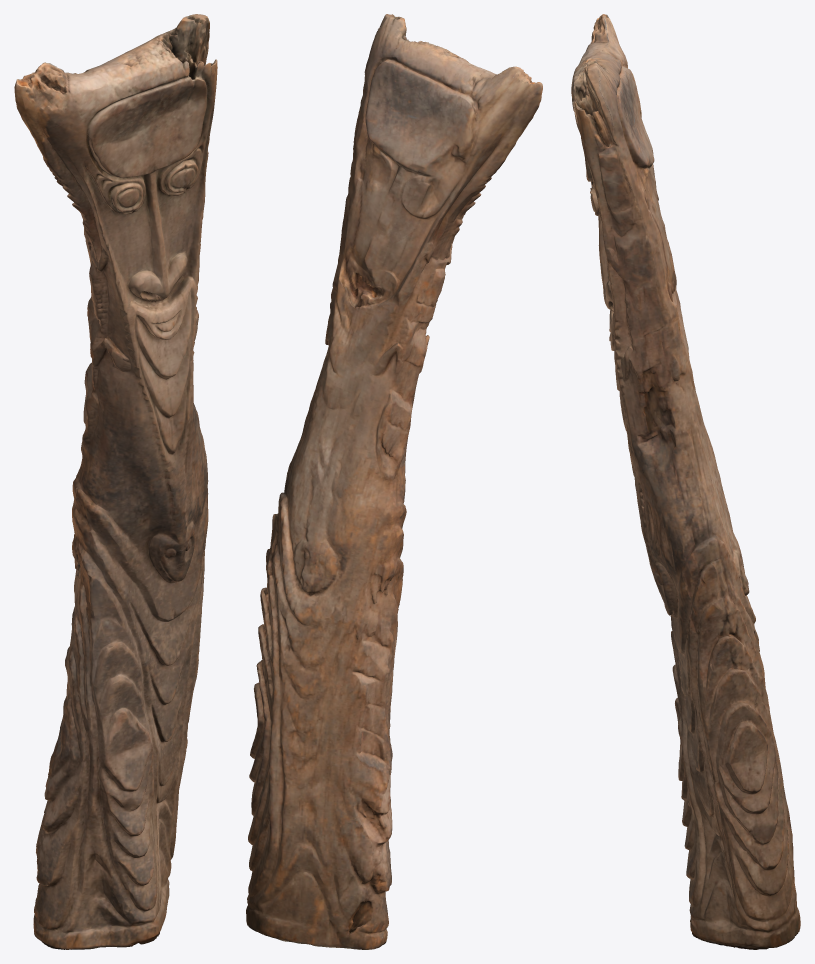
File: preview.glb
3 renders of one model, left to right at view 1: azimuth 30°, elevation 25°; view 2: azimuth 150°, elevation 25°; view 3: azimuth 270°, elevation 25°, orthographic. The views are drawn at different scales.
Visible parts, largest first — view 1: Polygonal_Model_1_PG_1979_206_1672_OB_AAOA_HousePost_n3d; view 2: Polygonal_Model_1_PG_1979_206_1672_OB_AAOA_HousePost_n3d; view 3: Polygonal_Model_1_PG_1979_206_1672_OB_AAOA_HousePost_n3d.
Boxes of the visible parts, bbox=[...] form: Polygonal_Model_1_PG_1979_206_1672_OB_AAOA_HousePost_n3d: bbox=[14, 14, 217, 949]; Polygonal_Model_1_PG_1979_206_1672_OB_AAOA_HousePost_n3d: bbox=[246, 14, 542, 949]; Polygonal_Model_1_PG_1979_206_1672_OB_AAOA_HousePost_n3d: bbox=[571, 14, 800, 949].
Bounding box in the file's own units: 0.685 × 2.56 × 0.6128.
Materials: 1 (1 with a texture image).
